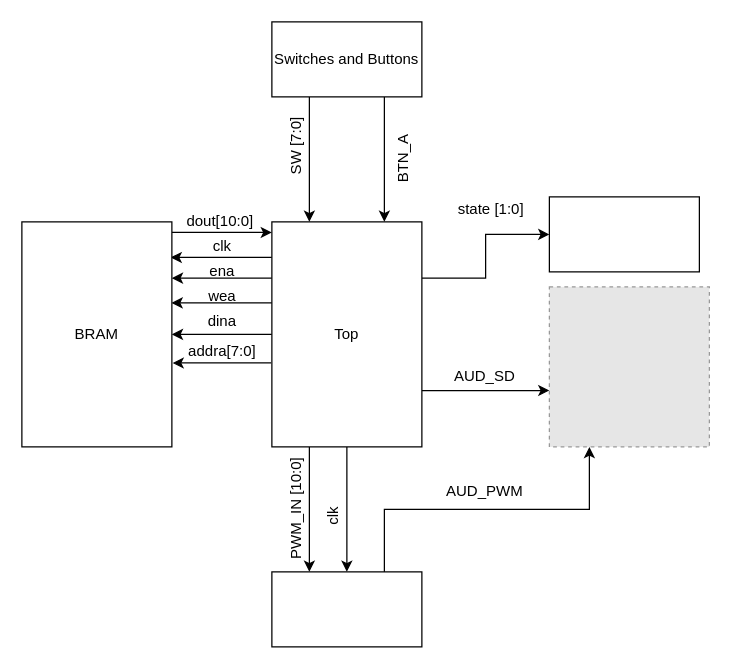
This 731x669 diagram has some shape labels left out. Grey dashed boxes stand in for pictures. Here are the shapes that lost their labels. From the top down, the centre of each, then its label:
the point at 623,234: LEDs
the point at 346,609: PWM
